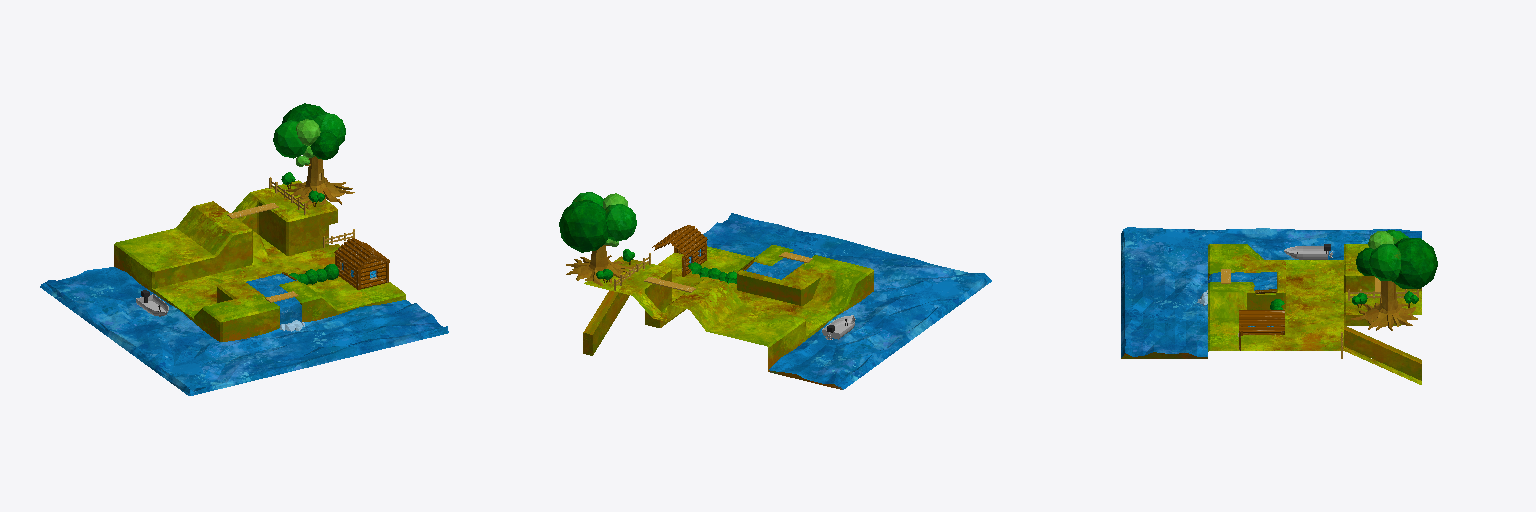
The picture shows the model from 3 angles: view 1: azimuth 30°, elevation 25°; view 2: azimuth 150°, elevation 25°; view 3: azimuth 270°, elevation 25°; orthographic projection.
Visible parts, largest first — view 1: chunk_1.001, Agua.002, Icosphere.018, Cube.012, Icosphere.019, agua.001, techo_izquierda.002, pared_abajo.002, arbusto.001, Barca.001; view 2: chunk_1.001, Agua.002, Icosphere.018, Cube.012, agua.001, techo_izquierda.002, Barca.001; view 3: chunk_1.001, Agua.002, Icosphere.018, Cube.012, techo_derecha.001, agua.001, Icosphere.019, Barca.001.
Boxes of the visible parts, x1,y1,x2,y2 form: chunk_1.001: [114, 180, 405, 341]; Agua.002: [40, 267, 448, 395]; Icosphere.018: [273, 103, 345, 158]; Cube.012: [286, 156, 354, 209]; Icosphere.019: [296, 119, 338, 159]; agua.001: [246, 273, 301, 324]; techo_izquierda.002: [334, 239, 373, 270]; pared_abajo.002: [361, 259, 386, 288]; arbusto.001: [289, 264, 338, 284]; Barca.001: [136, 290, 168, 316]; chunk_1.001: [583, 245, 873, 371]; Agua.002: [703, 213, 991, 389]; Icosphere.018: [559, 192, 636, 252]; Cube.012: [566, 245, 635, 285]; agua.001: [744, 251, 811, 279]; techo_izquierda.002: [668, 226, 707, 257]; Barca.001: [822, 315, 855, 339]; chunk_1.001: [1208, 244, 1421, 384]; Agua.002: [1121, 227, 1421, 357]; Icosphere.018: [1369, 230, 1437, 288]; Cube.012: [1351, 281, 1417, 330]; techo_derecha.001: [1239, 312, 1284, 330]; agua.001: [1208, 272, 1276, 290]; Icosphere.019: [1356, 231, 1393, 275]; Barca.001: [1284, 244, 1332, 259].
Bounding box in the file's own units: 156 × 75.51 × 147.
8 materials, 4 textured.